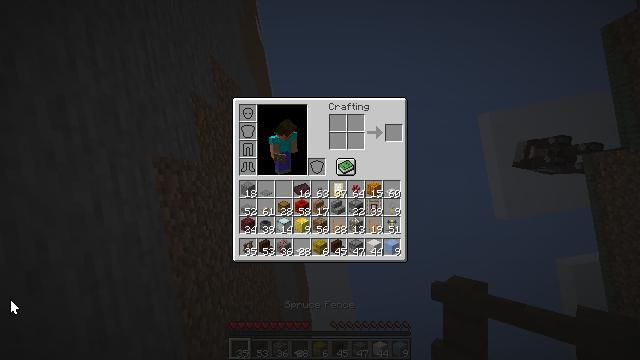cursor: (10, 299, 20, 315)
